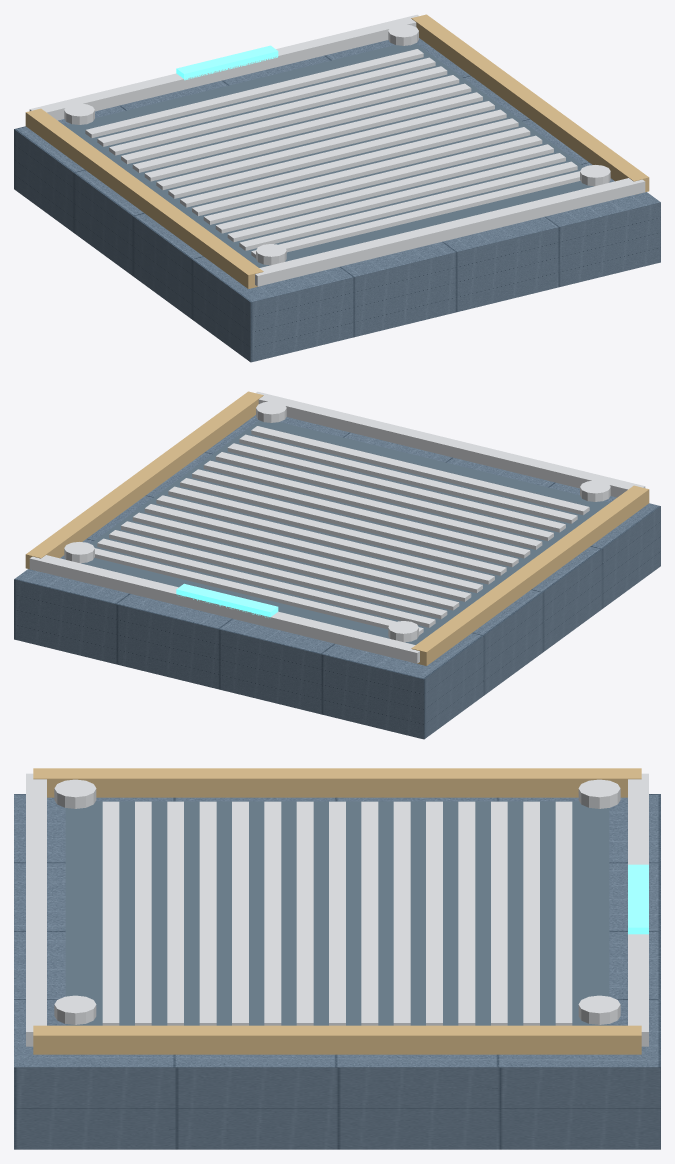
Rendered from gantry_floor_panel.glb.
3 renders of one model, top to bottom at view 1: azimuth 30°, elevation 25°; view 2: azimuth 150°, elevation 25°; view 3: azimuth 270°, elevation 25°, orthographic. The views are drawn at different scales.
Visible parts, largest first — view 1: gantry_floor_panel_000, gantry_floor_panel_001, gantry_floor_panel_020, gantry_floor_panel_017, gantry_floor_panel_018, gantry_floor_panel_019, gantry_floor_panel_006, gantry_floor_panel_012, gantry_floor_panel_004, gantry_floor_panel_014, gantry_floor_panel_002, gantry_floor_panel_003 (+14 smaller); view 2: gantry_floor_panel_000, gantry_floor_panel_001, gantry_floor_panel_017, gantry_floor_panel_019, gantry_floor_panel_020, gantry_floor_panel_018, gantry_floor_panel_012, gantry_floor_panel_006, gantry_floor_panel_014, gantry_floor_panel_004, gantry_floor_panel_005, gantry_floor_panel_007 (+14 smaller); view 3: gantry_floor_panel_000, gantry_floor_panel_001, gantry_floor_panel_018, gantry_floor_panel_017, gantry_floor_panel_020, gantry_floor_panel_005, gantry_floor_panel_007, gantry_floor_panel_008, gantry_floor_panel_010, gantry_floor_panel_011, gantry_floor_panel_013, gantry_floor_panel_002 (+14 smaller).
Part boxes in pixels (<box>): gantry_floor_panel_000: <box>14,38,660,362</box>; gantry_floor_panel_001: <box>65,43,593,267</box>; gantry_floor_panel_020: <box>255,178,645,286</box>; gantry_floor_panel_017: <box>25,108,263,288</box>; gantry_floor_panel_018: <box>411,14,649,192</box>; gantry_floor_panel_019: <box>29,14,418,120</box>; gantry_floor_panel_006: <box>132,83,471,172</box>; gantry_floor_panel_012: <box>203,135,542,224</box>; gantry_floor_panel_004: <box>109,66,447,155</box>; gantry_floor_panel_014: <box>227,153,565,242</box>; gantry_floor_panel_002: <box>85,49,423,138</box>; gantry_floor_panel_003: <box>97,57,435,146</box>; gantry_floor_panel_000: <box>14,415,660,739</box>; gantry_floor_panel_001: <box>81,420,609,644</box>; gantry_floor_panel_017: <box>411,485,649,665</box>; gantry_floor_panel_019: <box>29,555,419,663</box>; gantry_floor_panel_020: <box>256,391,645,497</box>; gantry_floor_panel_018: <box>25,391,263,569</box>; gantry_floor_panel_012: <box>203,460,542,549</box>; gantry_floor_panel_006: <box>132,512,471,601</box>; gantry_floor_panel_014: <box>227,443,565,532</box>; gantry_floor_panel_004: <box>109,530,447,619</box>; gantry_floor_panel_005: <box>121,521,459,610</box>; gantry_floor_panel_007: <box>144,504,482,593</box>; gantry_floor_panel_000: <box>14,794,660,1149</box>; gantry_floor_panel_001: <box>65,801,609,1025</box>; gantry_floor_panel_018: <box>33,1025,641,1054</box>; gantry_floor_panel_017: <box>33,768,641,797</box>; gantry_floor_panel_020: <box>26,773,46,1046</box>; gantry_floor_panel_005: <box>458,801,475,1025</box>; gantry_floor_panel_007: <box>393,801,410,1025</box>; gantry_floor_panel_008: <box>361,801,378,1025</box>; gantry_floor_panel_010: <box>296,801,313,1025</box>; gantry_floor_panel_011: <box>264,801,281,1025</box>; gantry_floor_panel_013: <box>199,801,216,1025</box>; gantry_floor_panel_002: <box>555,801,572,1025</box>.
Size of the model in its own units: 2 by 0.398 by 2.
Materials: 5 (1 with a texture image).
